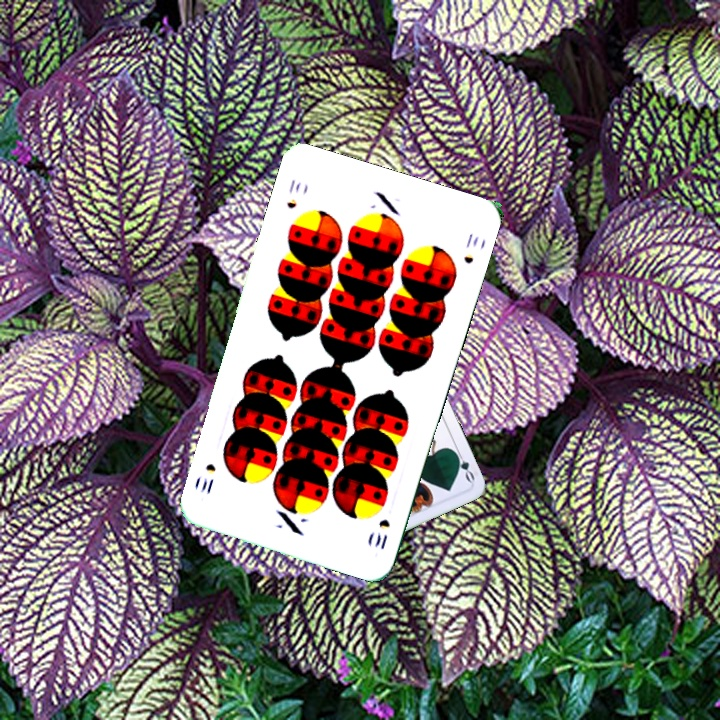GO: (450, 445, 477, 484)
S10: (370, 514, 393, 552), (282, 175, 304, 211)
